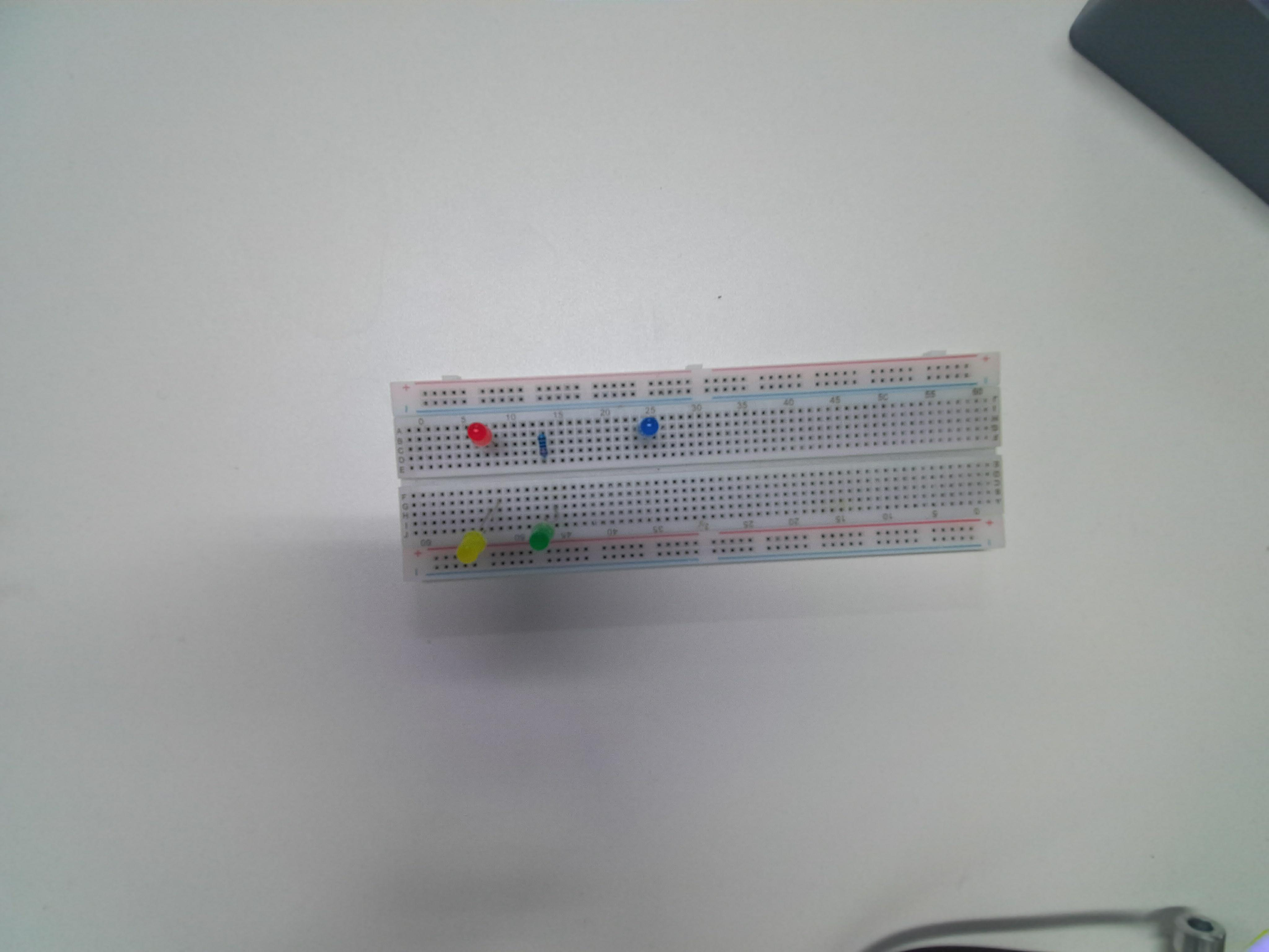base: (389, 353, 1008, 586)
blue-led: (637, 417, 659, 437)
green-led: (530, 524, 552, 550)
red-led: (466, 414, 495, 455)
resistor-small: (539, 430, 549, 457)
yellow-led: (456, 530, 487, 569)
